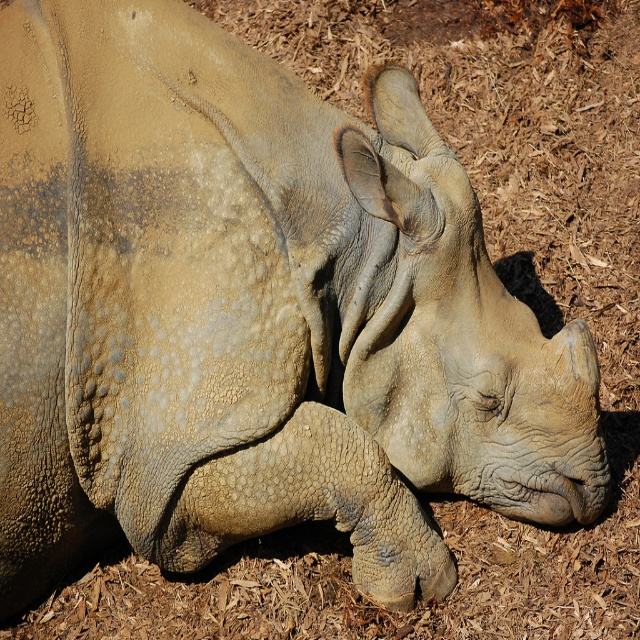Rhinoceros: (0, 0, 618, 619)
